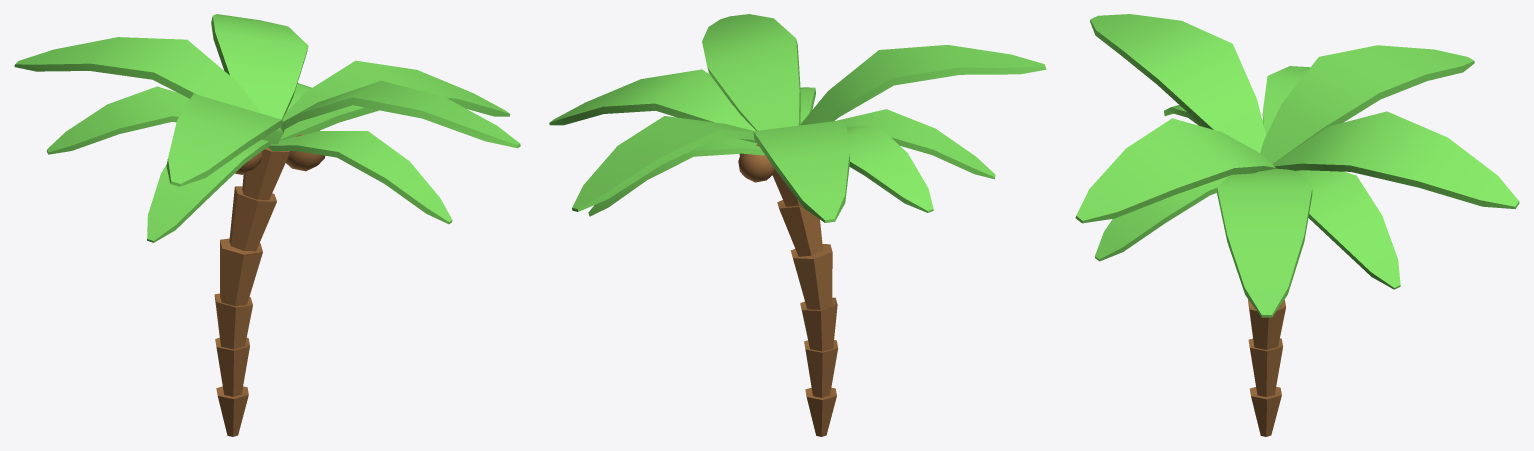
Rendered from palm.fbx.
3 views of the same model, side by side, from view 1: azimuth 30°, elevation 25°; view 2: azimuth 150°, elevation 25°; view 3: azimuth 270°, elevation 25° (orthographic). The views are drawn at different scales.
Visible parts, largest first — view 1: palm; view 2: palm; view 3: palm.
Part boxes in pixels (left/top/right/bottom): palm: left=14, top=14, right=520, bottom=436; palm: left=549, top=14, right=1046, bottom=436; palm: left=1075, top=14, right=1519, bottom=436.
Bounding box in the file's own units: 237 × 197 × 216.
